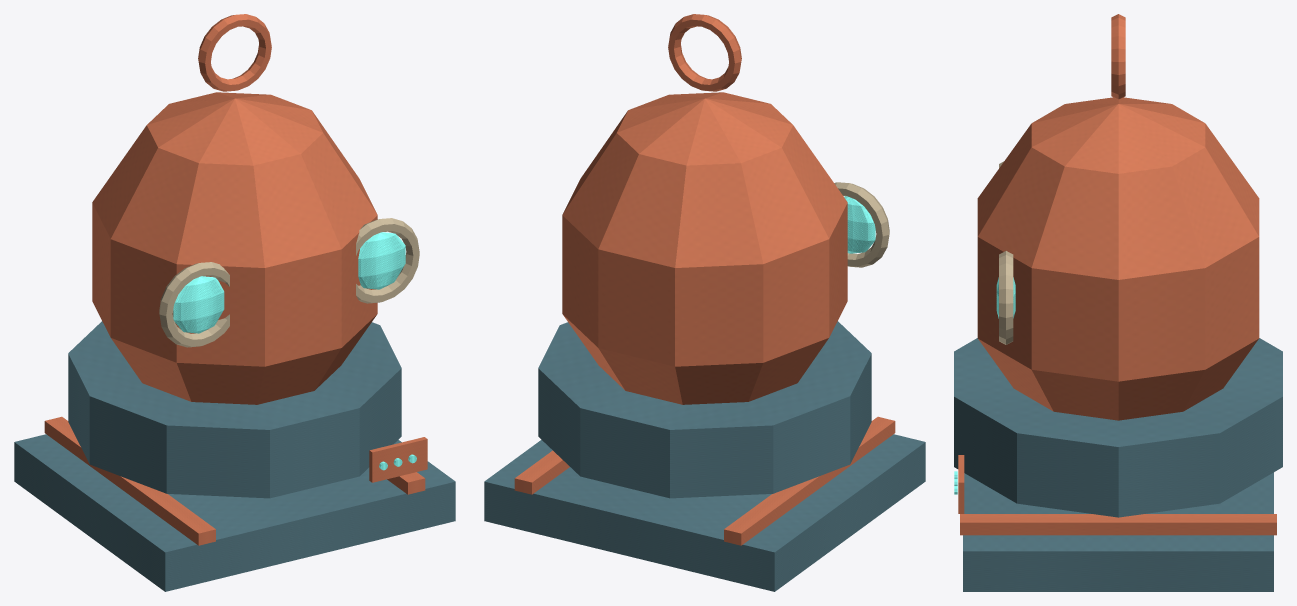
Rendered from atlas100-s046-a01.glb.
3 views of the same model, side by side, from view 1: azimuth 30°, elevation 25°; view 2: azimuth 150°, elevation 25°; view 3: azimuth 270°, elevation 25° (orthographic). The views are drawn at different scales.
Visible parts, largest first — view 1: atlas100-s046-a01:part-003, atlas100-s046-a01:part-004, atlas100-s046-a01:part-000, atlas100-s046-a01:part-001, atlas100-s046-a01:part-009, atlas100-s046-a01:part-005, atlas100-s046-a01:part-006, atlas100-s046-a01:part-007, atlas100-s046-a01:part-008, atlas100-s046-a01:part-010, atlas100-s046-a01:part-002; view 2: atlas100-s046-a01:part-003, atlas100-s046-a01:part-004, atlas100-s046-a01:part-000, atlas100-s046-a01:part-001, atlas100-s046-a01:part-009, atlas100-s046-a01:part-005, atlas100-s046-a01:part-006, atlas100-s046-a01:part-002; view 3: atlas100-s046-a01:part-003, atlas100-s046-a01:part-004, atlas100-s046-a01:part-000, atlas100-s046-a01:part-002, atlas100-s046-a01:part-007, atlas100-s046-a01:part-009.
Boxes of the visible parts, x1,y1,x2,y2 form: atlas100-s046-a01:part-003: (92, 92, 377, 404); atlas100-s046-a01:part-004: (68, 321, 401, 498); atlas100-s046-a01:part-000: (14, 434, 455, 591); atlas100-s046-a01:part-001: (44, 416, 215, 545); atlas100-s046-a01:part-009: (198, 14, 271, 91); atlas100-s046-a01:part-005: (159, 262, 229, 347); atlas100-s046-a01:part-006: (173, 276, 224, 333); atlas100-s046-a01:part-007: (356, 218, 419, 303); atlas100-s046-a01:part-008: (358, 232, 405, 289); atlas100-s046-a01:part-010: (369, 437, 427, 482); atlas100-s046-a01:part-002: (387, 472, 425, 494); atlas100-s046-a01:part-003: (562, 92, 847, 404); atlas100-s046-a01:part-004: (538, 321, 871, 498); atlas100-s046-a01:part-000: (484, 434, 925, 591); atlas100-s046-a01:part-001: (724, 416, 895, 545); atlas100-s046-a01:part-009: (668, 14, 741, 91); atlas100-s046-a01:part-005: (834, 182, 889, 267); atlas100-s046-a01:part-006: (844, 196, 875, 253); atlas100-s046-a01:part-002: (514, 450, 569, 494); atlas100-s046-a01:part-003: (977, 97, 1259, 420); atlas100-s046-a01:part-004: (954, 338, 1282, 517); atlas100-s046-a01:part-000: (963, 472, 1273, 591); atlas100-s046-a01:part-002: (960, 514, 1276, 535); atlas100-s046-a01:part-007: (999, 251, 1013, 344); atlas100-s046-a01:part-009: (1111, 14, 1125, 99).
Bounding box in the file's own units: 2 × 3.2 × 1.9.
4 materials, 4 textured.
